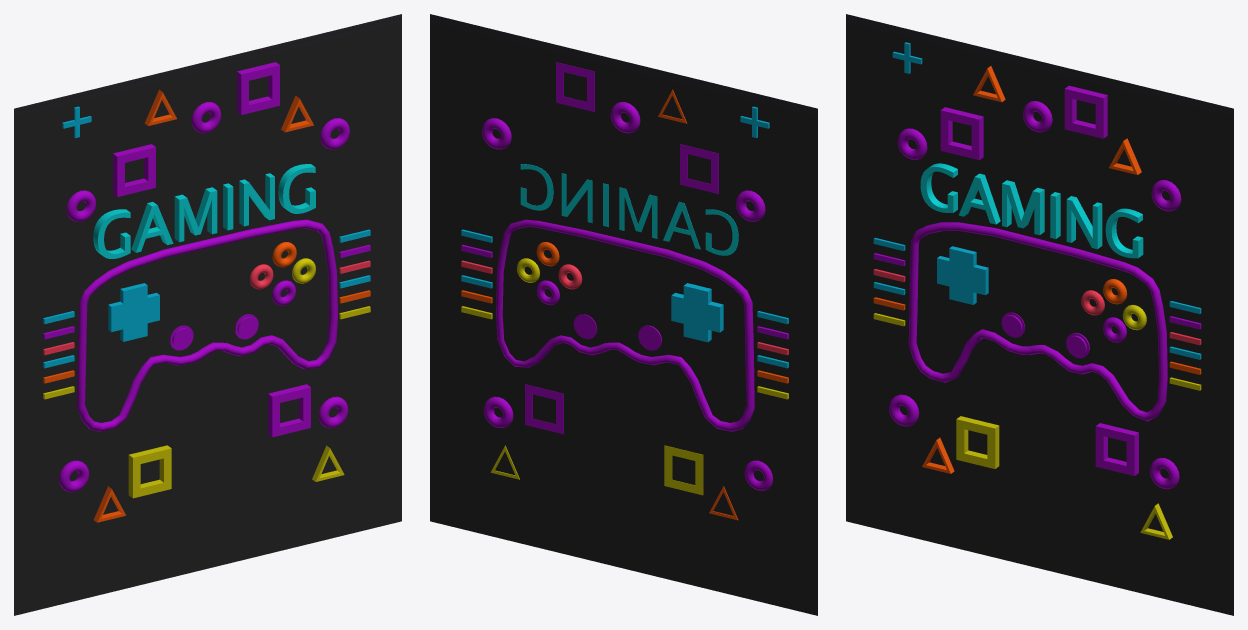
The model's file is neon_gaming.glb.
The picture shows the model from 3 angles, left to right: view 1: azimuth 30°, elevation 25°; view 2: azimuth 150°, elevation 25°; view 3: azimuth 330°, elevation 25°; orthographic projection.
Parts seen in each view (by area): view 1: poster_1_backing_AlleMaterials_0; view 2: poster_1_backing_AlleMaterials_0; view 3: poster_1_backing_AlleMaterials_0.
Boxes of the visible parts, box(x1,y1,x2,y2) form: poster_1_backing_AlleMaterials_0: box(14, 14, 401, 615); poster_1_backing_AlleMaterials_0: box(430, 14, 817, 615); poster_1_backing_AlleMaterials_0: box(846, 14, 1233, 615).
Size of the model in its own units: 0.72 by 0.9 by 0.0274.
1 material, 1 textured.
